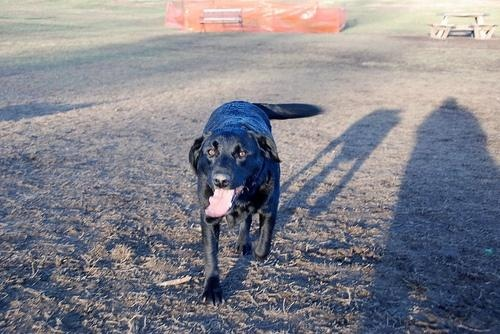dog: (186, 97, 323, 304)
